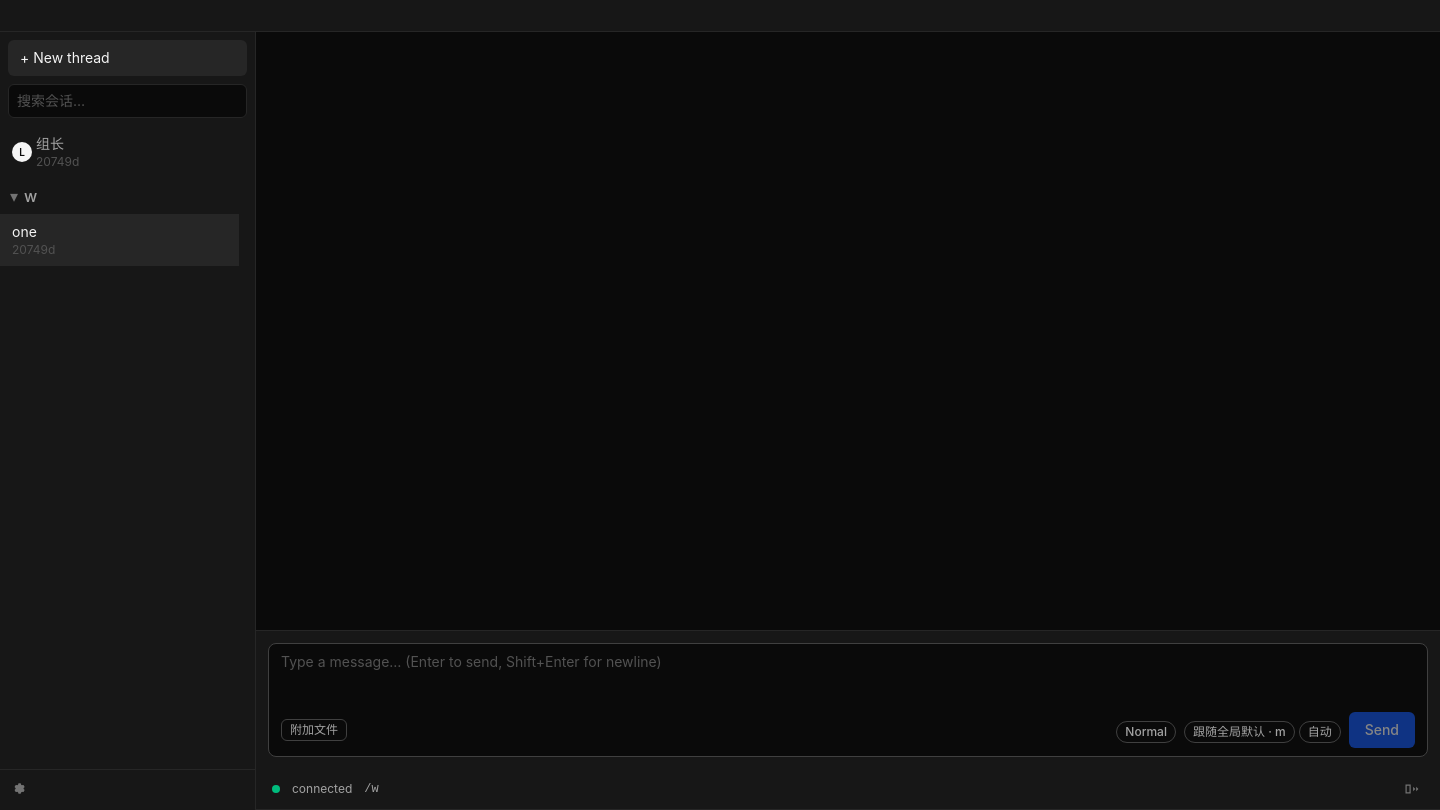
Test case: App YOLO wiring › does not change local mode when setPermissionMode fails, and surfaces the error
Click the button with aria-label "mode".
click(1146, 732)  # box x1=1116 y1=720 x2=1176 y2=742
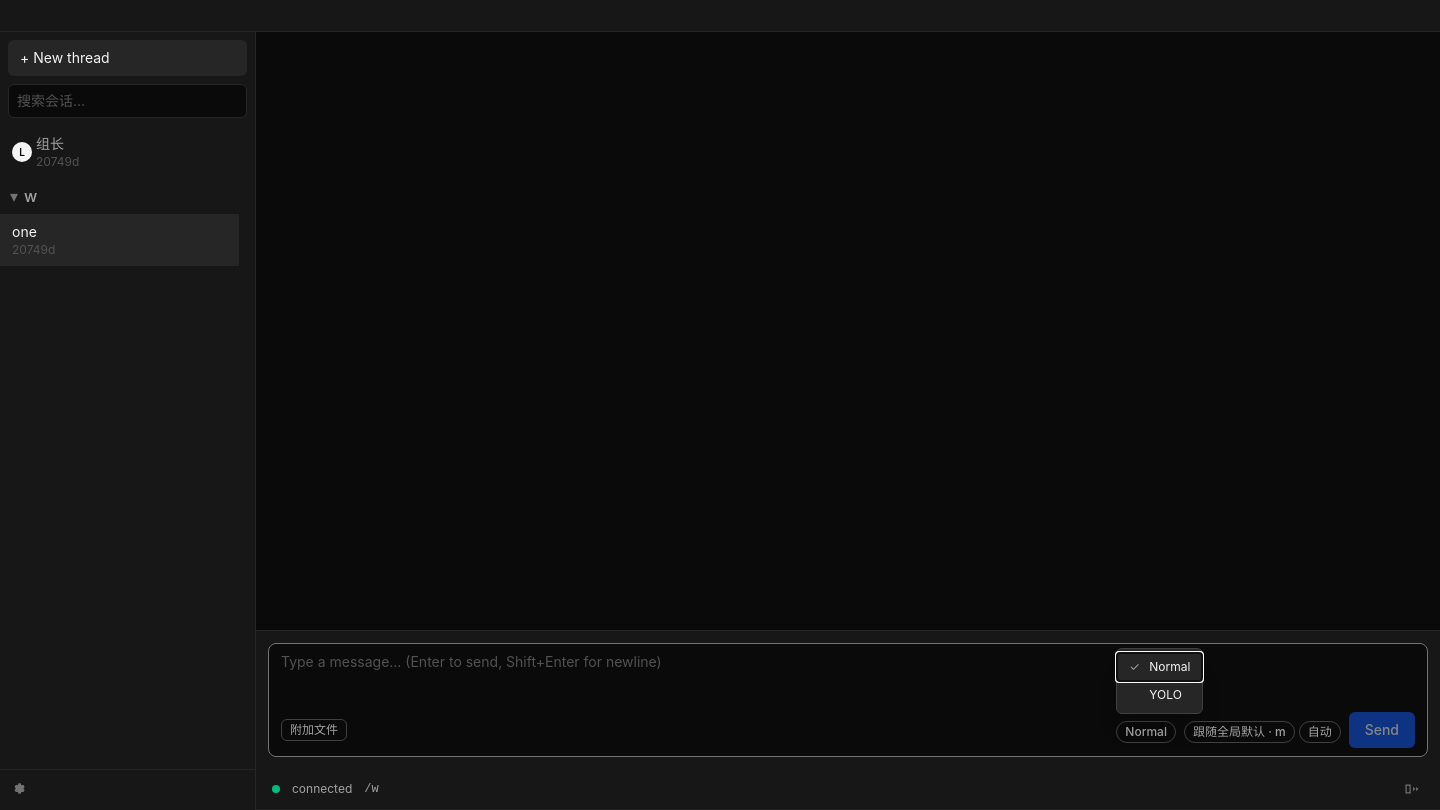
Click the menu item "YOLO".
click(1160, 694)  # box x1=1117 y1=680 x2=1202 y2=708
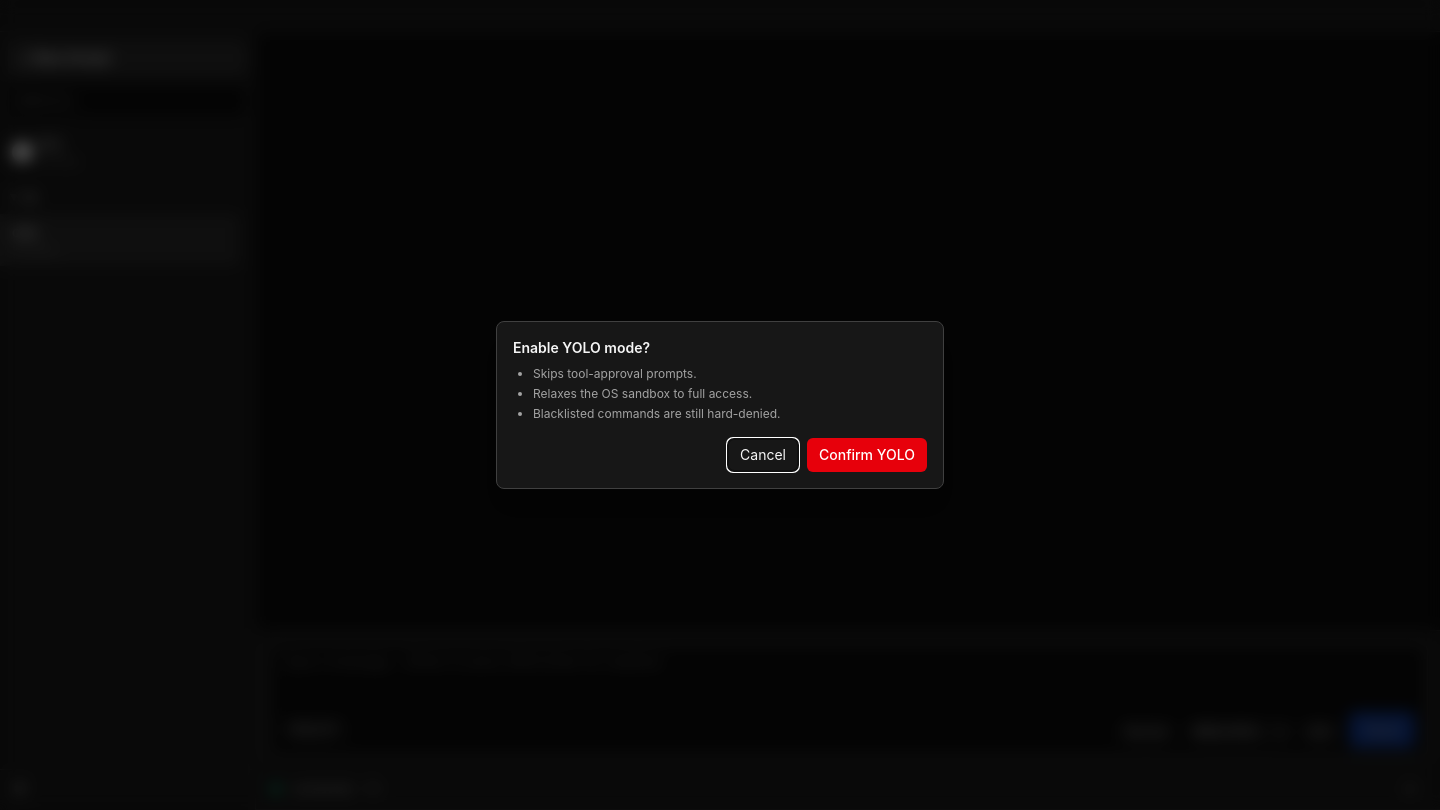
Click the button "Confirm YOLO".
click(867, 455)  # box x1=807 y1=438 x2=927 y2=472
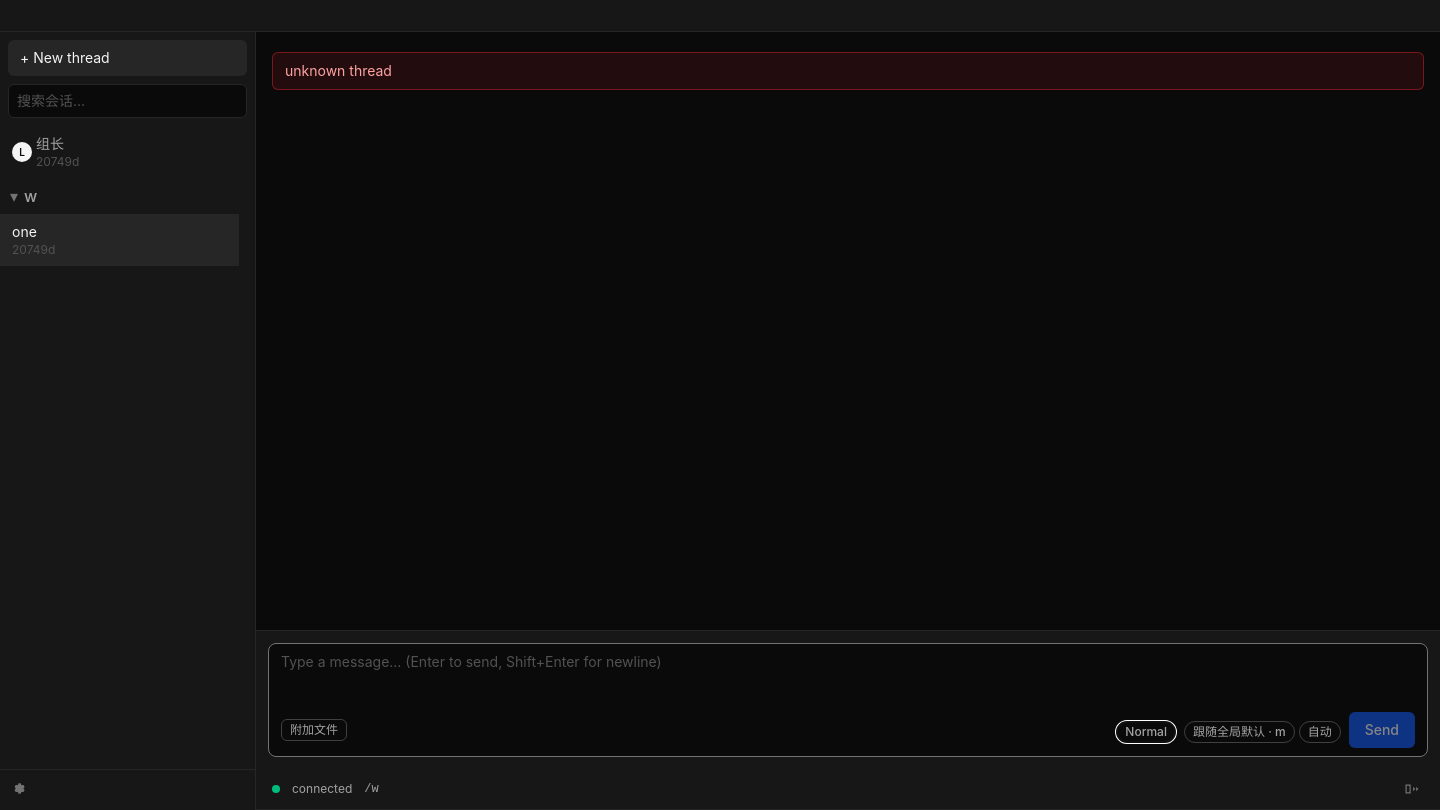
Expected: the button with aria-label "mode" reads "Normal", x1=1116 y1=720 x2=1176 y2=742
Expected: the text "unknown thread" is shown, x1=272 y1=52 x2=1424 y2=90
Expected: the heading "mode" no longer shows "YOLO"
